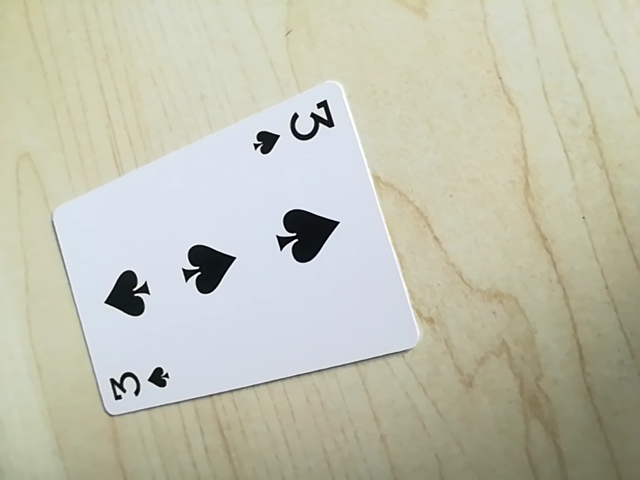ht 3: (250, 96, 338, 157), (103, 360, 176, 409)
